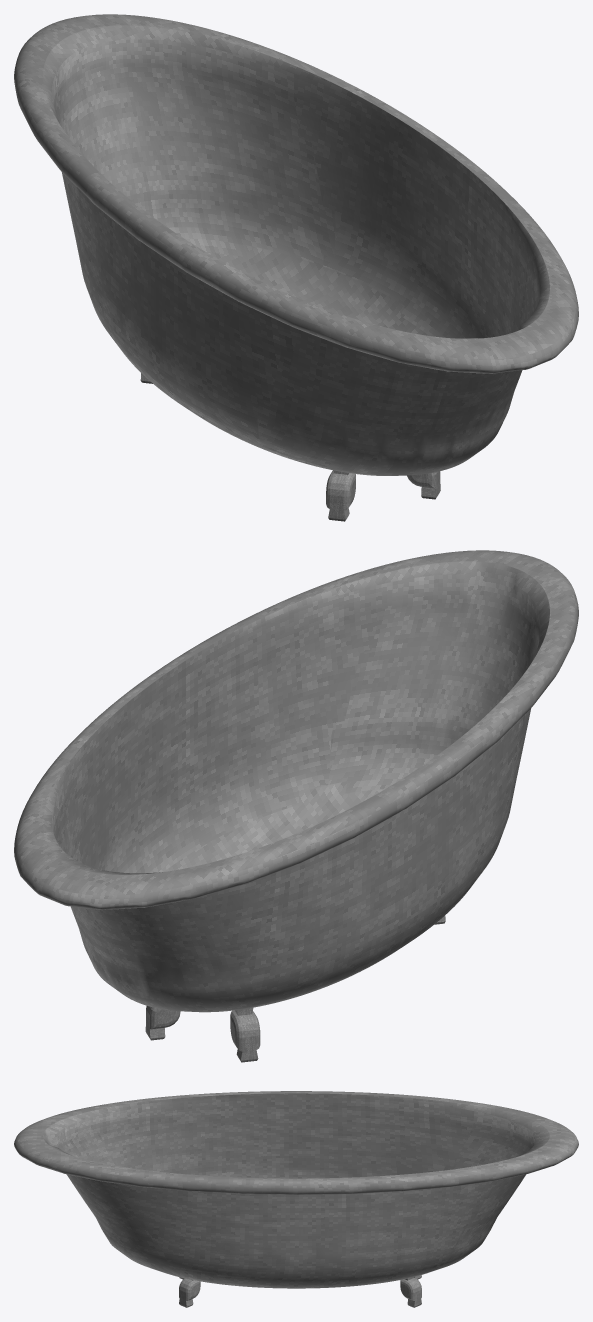
Rendered from wanna (1).fbx.
3 renders of one model, top to bottom at view 1: azimuth 30°, elevation 25°; view 2: azimuth 150°, elevation 25°; view 3: azimuth 270°, elevation 25°, orthographic. The views are drawn at different scales.
Parts seen in each view (by area): view 1: Cylinder.028, Cube.020, Cube.021; view 2: Cylinder.028, Cube.019, Cube.018; view 3: Cylinder.028, Cube.018, Cube.021.
Part boxes in pixels (left/top/right/bottom): Cylinder.028: left=14, top=14, right=578, bottom=475; Cube.020: left=326, top=470, right=355, bottom=521; Cube.021: left=406, top=471, right=440, bottom=499; Cylinder.028: left=14, top=550, right=578, bottom=1012; Cube.019: left=230, top=1007, right=260, bottom=1062; Cube.018: left=145, top=1006, right=180, bottom=1040; Cylinder.028: left=14, top=1091, right=578, bottom=1288; Cube.018: left=400, top=1277, right=421, bottom=1307; Cube.021: left=179, top=1278, right=200, bottom=1307.
Size of the model in its own units: 81.02 by 62.51 by 204.
Materials: 1 (1 with a texture image).
